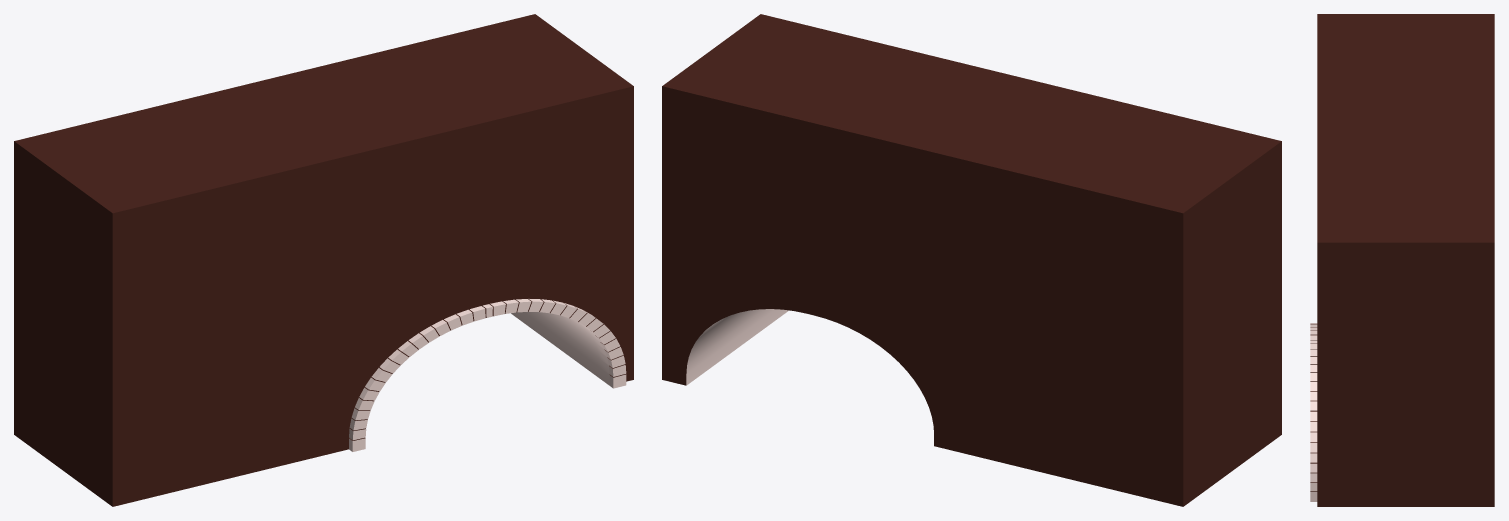
Rendered from Tunnel_2.fbx.
The picture shows the model from 3 angles, left to right: view 1: azimuth 30°, elevation 25°; view 2: azimuth 150°, elevation 25°; view 3: azimuth 270°, elevation 25°; orthographic projection. The views are drawn at different scales.
Visible parts, largest first — view 1: Tunnel.001; view 2: Tunnel.001; view 3: Tunnel.001.
Part boxes in pixels (x1,y1,x2,y2): Tunnel.001: [14, 14, 633, 506]; Tunnel.001: [662, 14, 1281, 506]; Tunnel.001: [1310, 14, 1494, 506].
Bounding box in the file's own units: 4785 × 2576 × 1630.
Materials: 1 (1 with a texture image).
